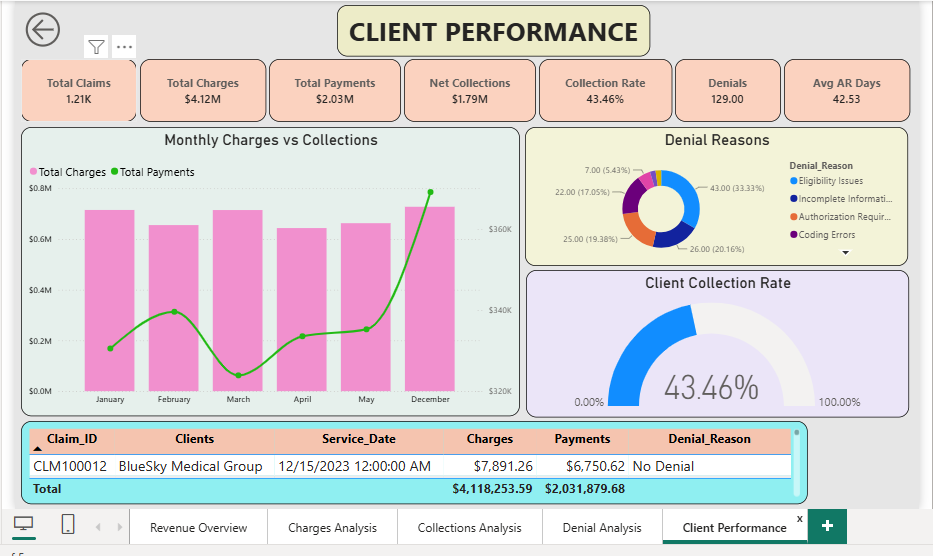

This screenshot's page, from the dashboard's own definition file:
{"tool":"powerbi","page":{"name":"Client Performance","canvas":[1280,720],"ordinal":4},"visuals":[{"type":"actionButton","title":"Client Performance","box":[8.6,8.6,61.9,64.8],"z":0},{"type":"cardVisual","fields":{"Data":["_Measures.Total Claims"]},"box":[8.6,82.1,164.2,89.3],"z":1000},{"type":"cardVisual","fields":{"Data":["_Measures.Total Charges"]},"box":[177.1,82.1,178.6,89.3],"z":2000},{"type":"cardVisual","fields":{"Data":["_Measures.Total Payments"]},"box":[360,82.1,187.2,89.3],"z":3000},{"type":"cardVisual","fields":{"Data":["_Measures.Net Collections"]},"box":[551.5,82.1,187.2,89.3],"z":4000},{"type":"cardVisual","fields":{"Data":["_Measures.Collection Rate %"]},"box":[743,82.1,188.6,89.3],"z":5000},{"type":"cardVisual","fields":{"Data":["_Measures.Total Denials"]},"box":[936,82.1,149.8,89.3],"z":6000},{"type":"lineClusteredColumnComboChart","title":"Monthly Charges vs Collections","fields":{"Category":["Dim_Date.Month_Name"],"Y":["_Measures.Total Charges"],"Y2":["_Measures.Total Payments"]},"box":[8.6,178.6,707,410.4],"z":7000},{"type":"cardVisual","fields":{"Data":["_Measures.Avg AR Days"]},"box":[1090.1,82.1,178.6,89.3],"z":8000},{"type":"donutChart","title":"Denial Reasons","fields":{"Category":["Dim_Denial_Reason.Denial_Reason"],"Y":["_Measures.Total Denials"]},"box":[722.9,178.6,542.9,197.3],"z":9000},{"type":"gauge","title":"Client Collection Rate","fields":{"Y":["_Measures.Collection Rate %"]},"box":[724.3,381.6,542.9,208.8],"z":10000},{"type":"tableEx","fields":{"Values":["Fact_Medical_Billing.Claim_ID","Dim_Client.Client_Name","Fact_Medical_Billing.Service_Date","_Measures.Total Charges","_Measures.Total Payments","Dim_Denial_Reason.Denial_Reason"]},"box":[8.6,594.7,1114.6,118.1],"z":11000},{"type":"textbox","box":[456.5,5.8,443.5,73.4],"z":12000}]}

Visuals, with their boxes in screenshot pixels (x1, y1, x2, y2):
"Client Performance" actionButton: locate(30, 11, 73, 56)
cardVisual - _Measures.Total Claims: locate(30, 62, 144, 124)
cardVisual - _Measures.Total Charges: locate(147, 62, 271, 124)
cardVisual - _Measures.Total Payments: locate(274, 62, 404, 124)
cardVisual - _Measures.Net Collections: locate(407, 62, 536, 124)
cardVisual - _Measures.Collection Rate %: locate(539, 62, 670, 124)
cardVisual - _Measures.Total Denials: locate(673, 62, 777, 124)
"Monthly Charges vs Collections" lineClusteredColumnComboChart: locate(30, 129, 520, 413)
cardVisual - _Measures.Avg AR Days: locate(780, 62, 904, 124)
"Denial Reasons" donutChart: locate(526, 129, 902, 265)
"Client Collection Rate" gauge: locate(526, 269, 903, 414)
tableEx - Fact_Medical_Billing.Claim_ID x Dim_Client.Client_Name: locate(30, 417, 803, 499)
textbox: locate(341, 9, 648, 60)
